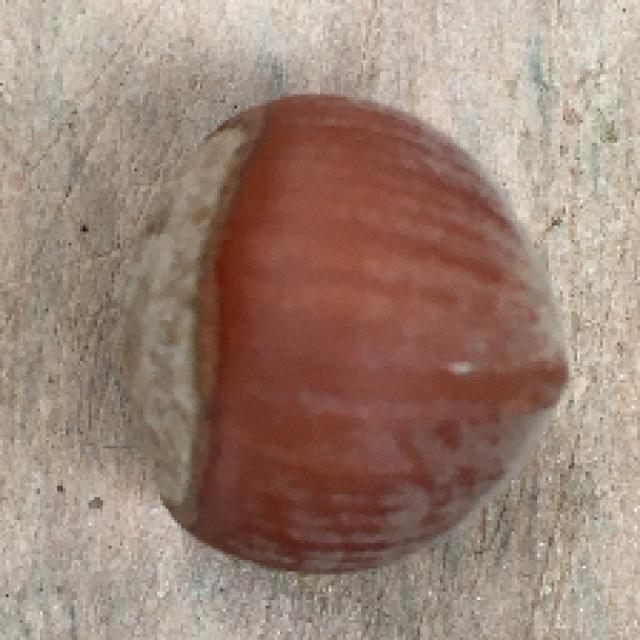qualityHazelnut: (104, 93, 576, 574)
